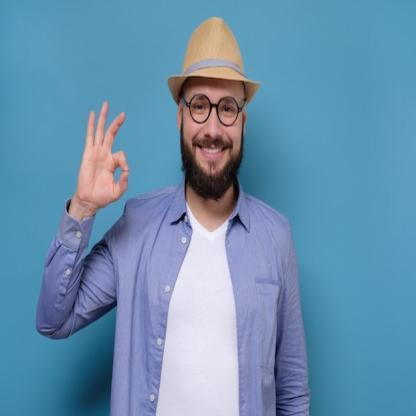ok: (74, 96, 133, 207)
